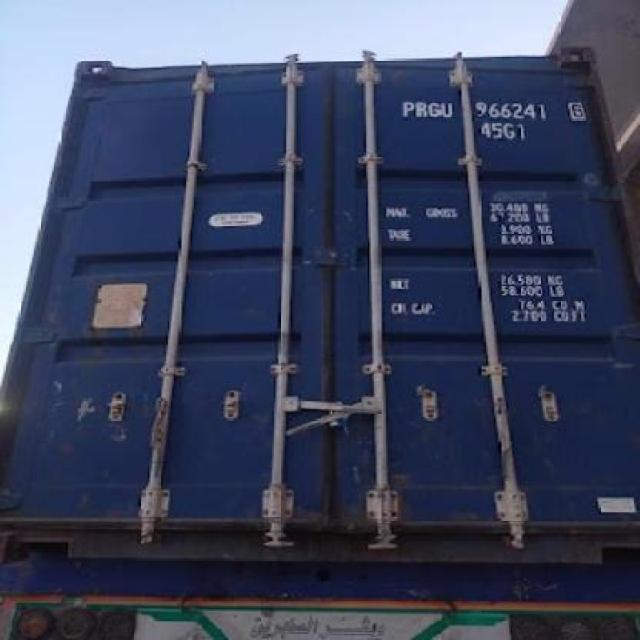ISO: (480, 118, 530, 144)
container_number: (396, 92, 591, 124)
